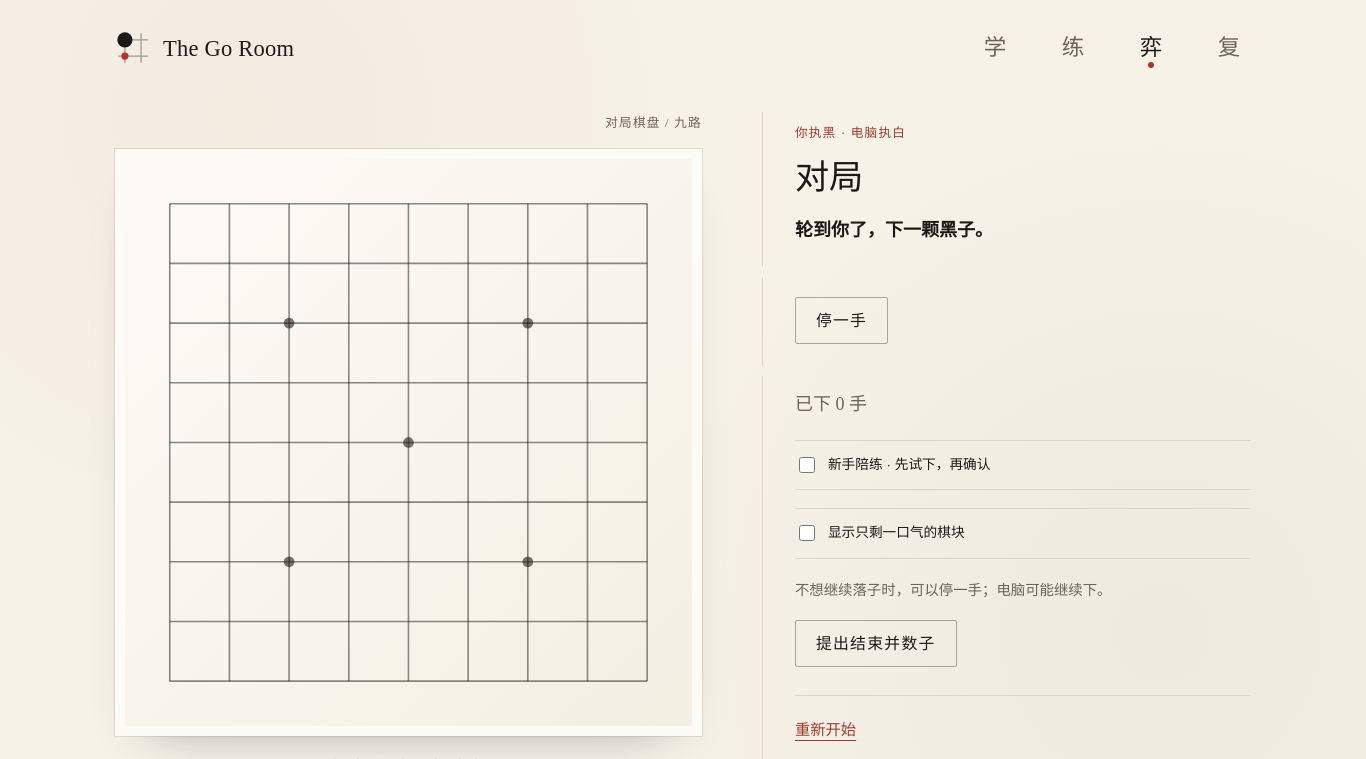
对局到复盘的完整路径 › 存储写入失败仍可复盘，并明确提示刷新将丢失
This screenshot has width=1366, height=759.
Click the button "停一手" at (842,320), box [795, 297, 888, 344]
Wait 350 ms
(page scrolled)
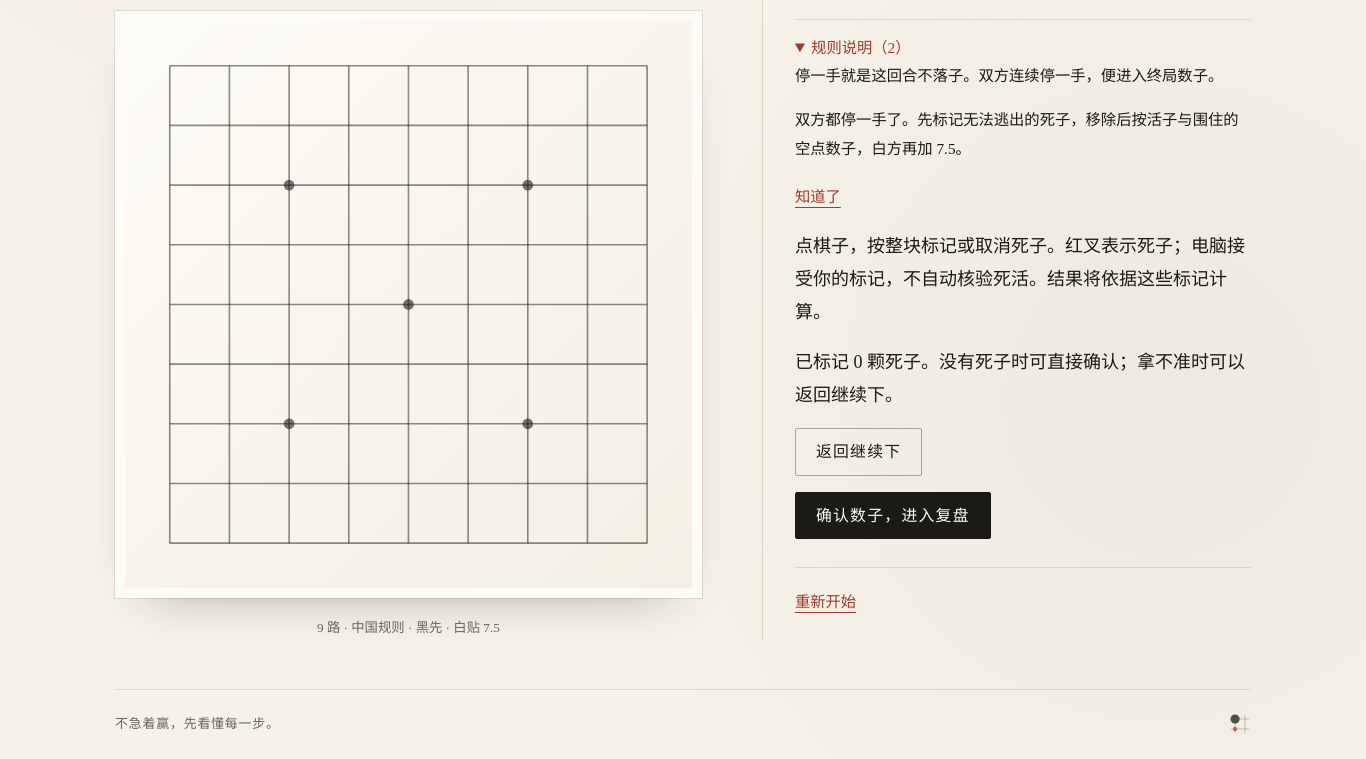
Click the button "确认数子，进入复盘" at (893,515), box [795, 492, 991, 539]
(page scrolled)
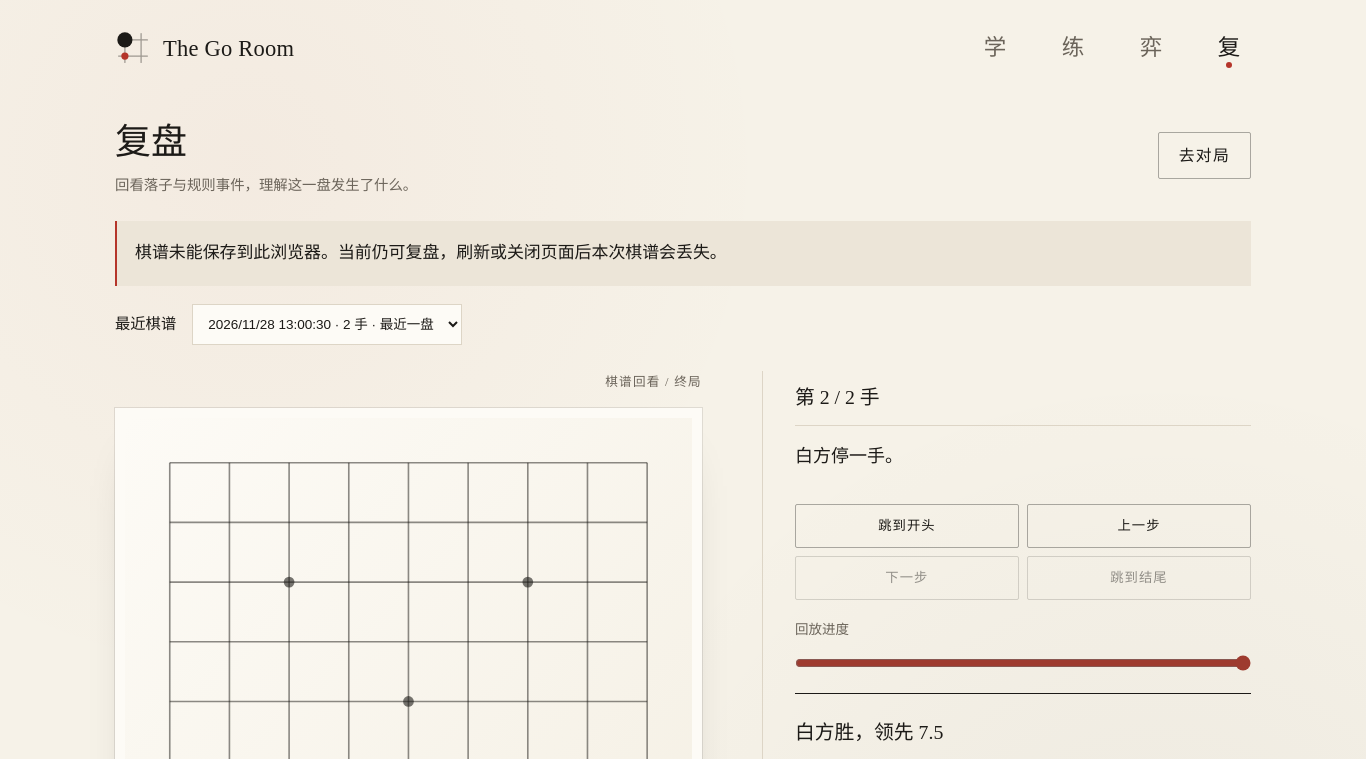
Now the message "棋谱未能保存到此浏览器。当前仍可复盘，刷新或关闭页面后本次棋谱会丢失。" is shown, box [115, 221, 1251, 286]
Now the heading "白方胜，领先 7.5" is shown, box [795, 720, 943, 742]
